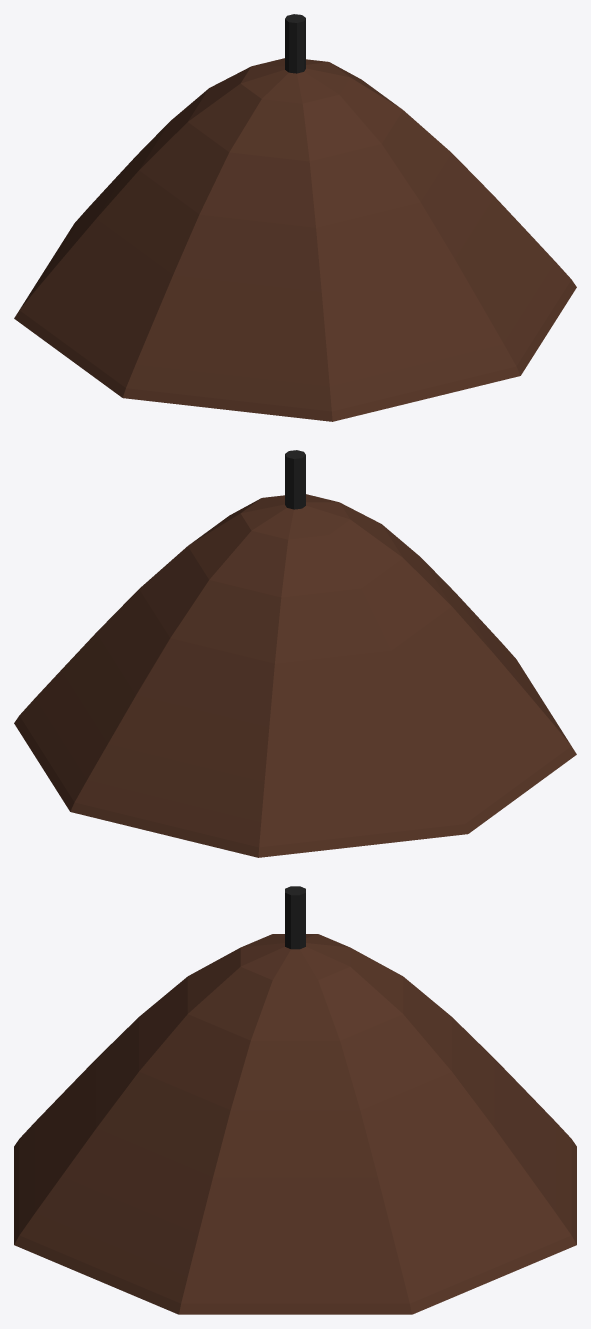
The model's file is Lampe.fbx.
3 renders of one model, top to bottom at view 1: azimuth 30°, elevation 25°; view 2: azimuth 150°, elevation 25°; view 3: azimuth 270°, elevation 25°, orthographic. The views are drawn at different scales.
Visible parts, largest first — view 1: Cylinder; view 2: Cylinder; view 3: Cylinder.
Part boxes in pixels (x1,y1,x2,y2): Cylinder: (14, 14, 576, 421); Cylinder: (14, 450, 576, 857); Cylinder: (14, 886, 576, 1314).
Bounding box in the file's own units: 516 × 318 × 516.
